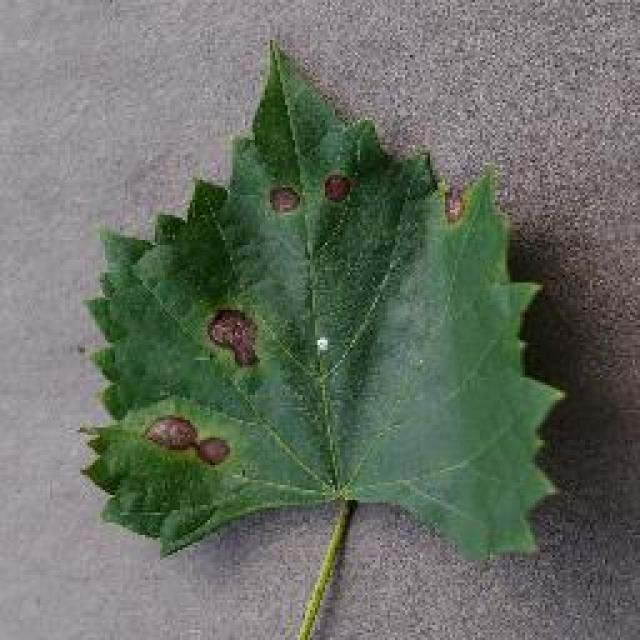Grape___Black_rot: (66, 32, 574, 570)
